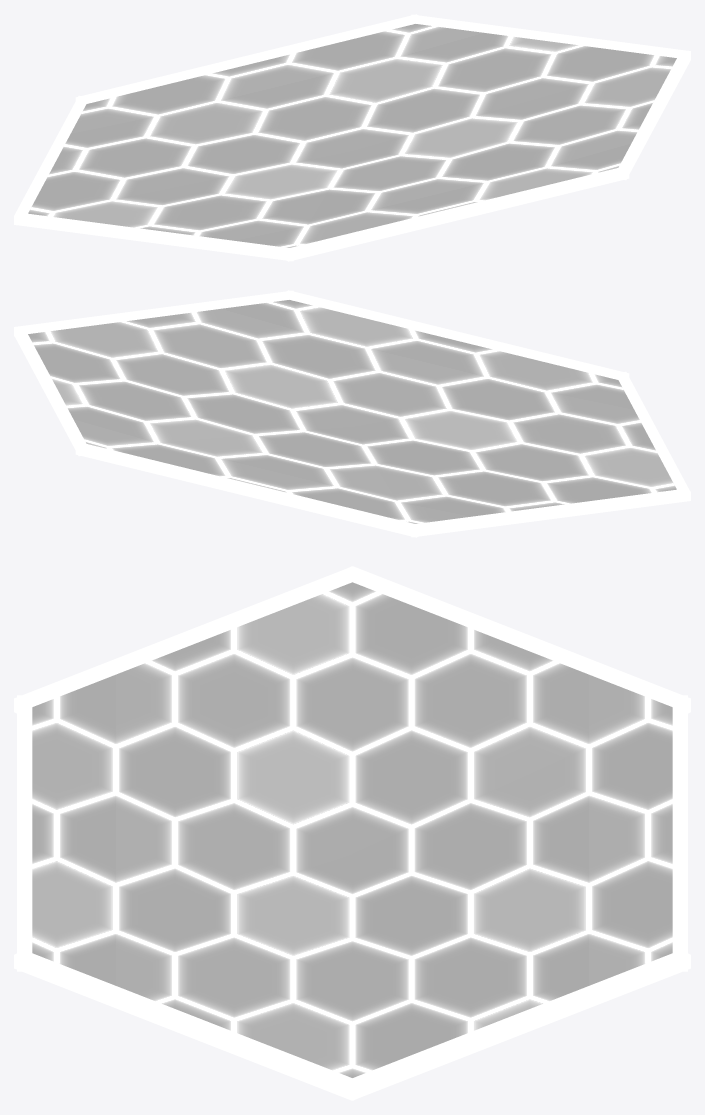
File: P06_shield.glb
3 views of the same model, one above another, from view 1: azimuth 30°, elevation 25°; view 2: azimuth 150°, elevation 25°; view 3: azimuth 270°, elevation 25° (orthographic). The views are drawn at different scales.
Parts seen in each view (by area): view 1: shield; view 2: shield; view 3: shield.
Part boxes in pixels (left/top/right/bottom): shield: left=14, top=14, right=690, bottom=261; shield: left=14, top=290, right=690, bottom=537; shield: left=14, top=566, right=690, bottom=1100.
Size of the model in its own units: 0.0651 by 0.0016 by 0.0358.
Materials: 2 (1 with a texture image).
